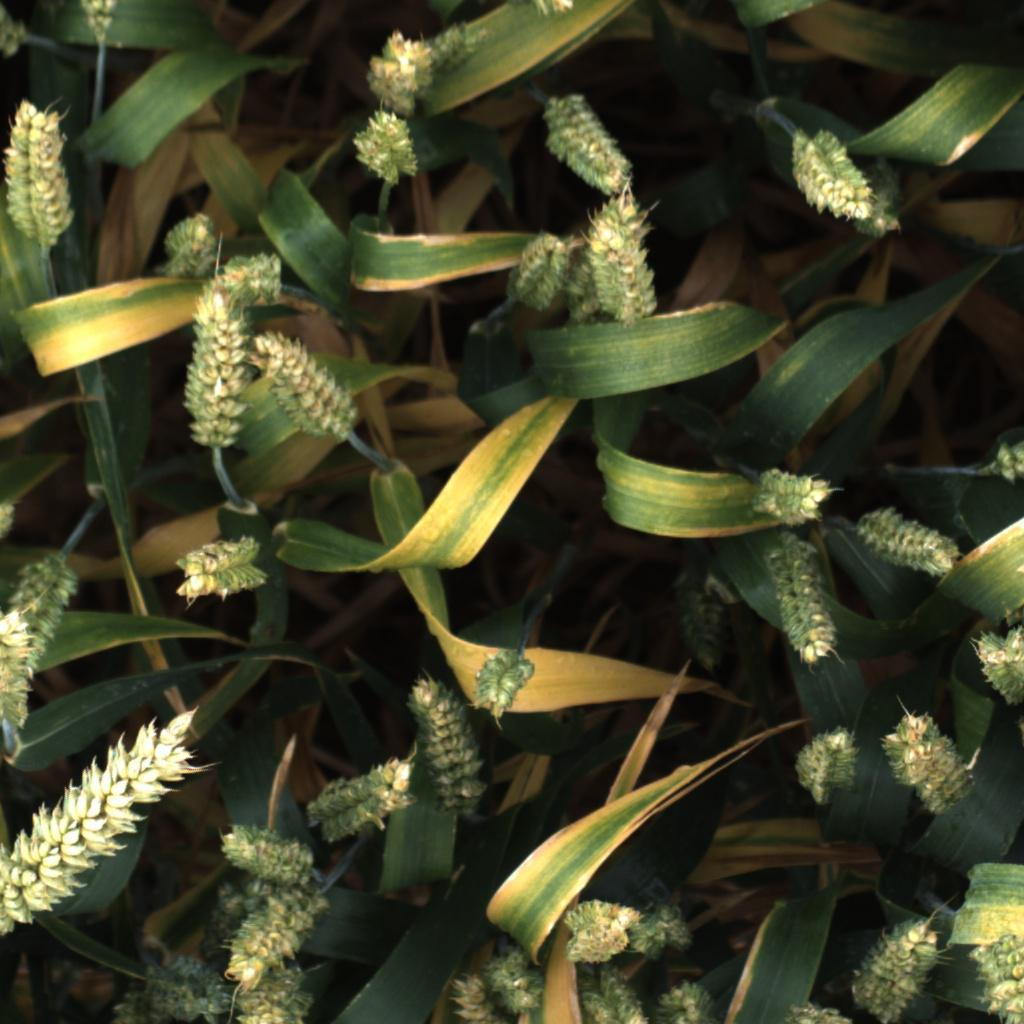0-0: (0, 709, 195, 933), (251, 326, 360, 447), (842, 906, 950, 1021), (220, 880, 336, 987), (182, 283, 253, 449), (759, 534, 847, 665), (408, 673, 486, 816), (881, 708, 982, 816), (305, 760, 426, 843), (540, 93, 636, 193), (581, 191, 656, 319), (4, 100, 69, 245), (2, 549, 82, 659), (211, 809, 319, 889), (854, 504, 961, 578), (790, 126, 870, 223), (165, 531, 271, 603), (211, 879, 292, 964), (362, 28, 438, 111), (140, 954, 232, 1021), (563, 891, 643, 966), (791, 724, 864, 806), (565, 239, 632, 327), (503, 228, 571, 313), (345, 107, 419, 183), (672, 593, 737, 678), (578, 963, 666, 1024), (468, 643, 538, 717), (753, 462, 835, 525), (848, 165, 912, 241), (0, 597, 36, 731), (152, 212, 220, 279), (624, 897, 696, 960), (486, 943, 551, 1012), (441, 972, 527, 1024), (969, 627, 1024, 707), (220, 246, 290, 302), (225, 975, 304, 1024), (656, 975, 730, 1024), (96, 970, 162, 1024), (433, 12, 489, 74), (978, 435, 1024, 483), (777, 998, 860, 1024), (0, 0, 25, 61), (79, 2, 116, 36)
